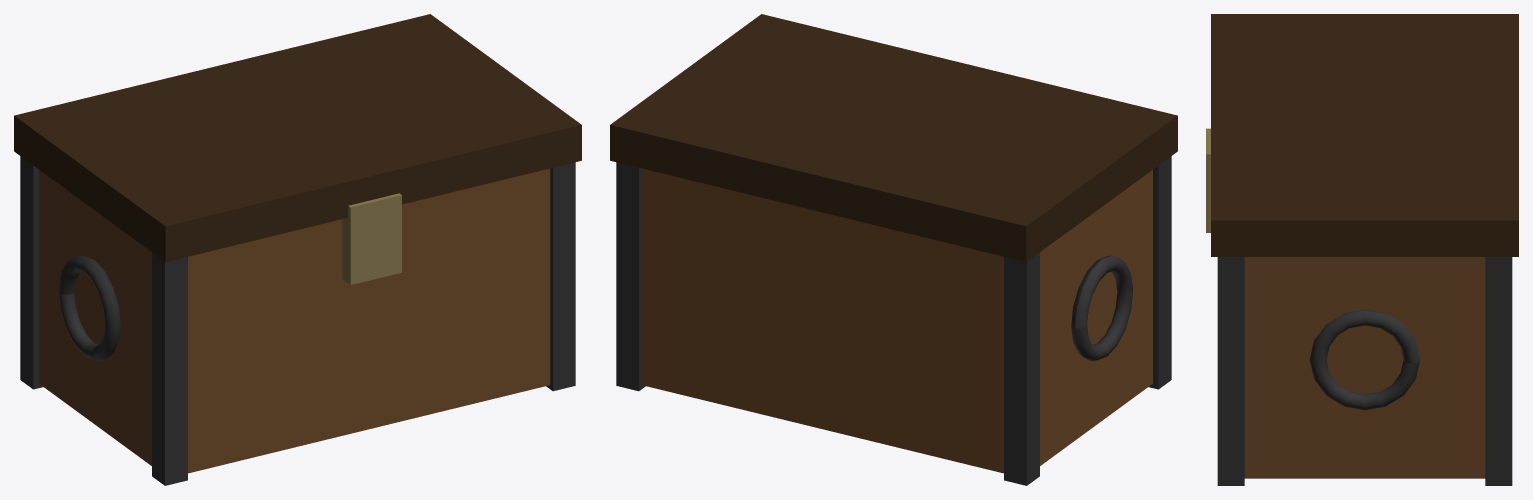
The picture shows the model from 3 angles, left to right: view 1: azimuth 30°, elevation 25°; view 2: azimuth 150°, elevation 25°; view 3: azimuth 270°, elevation 25°; orthographic projection.
Parts seen in each view (by area): view 1: OBJ-018 — DEMO NON_VALIDE; view 2: OBJ-018 — DEMO NON_VALIDE; view 3: OBJ-018 — DEMO NON_VALIDE.
Boxes of the visible parts, x1,y1,x2,y2 form: OBJ-018 — DEMO NON_VALIDE: (14,14,581,485); OBJ-018 — DEMO NON_VALIDE: (610,14,1177,485); OBJ-018 — DEMO NON_VALIDE: (1206,14,1518,485).
Bounding box in the file's own units: 2 × 1.17 × 1.24.
